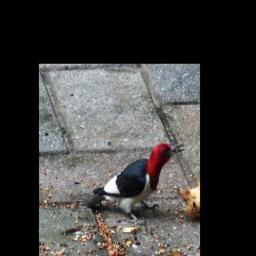Woodpecker: (80, 138, 189, 230)
